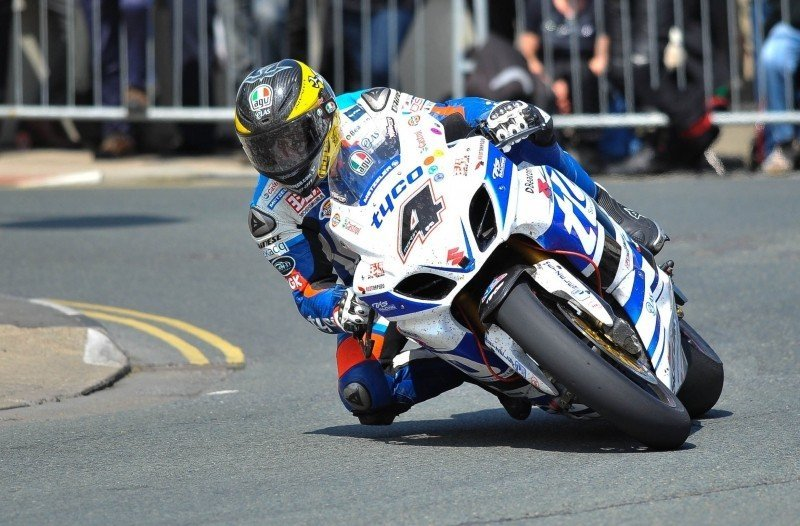helmet: (227, 63, 329, 192)
